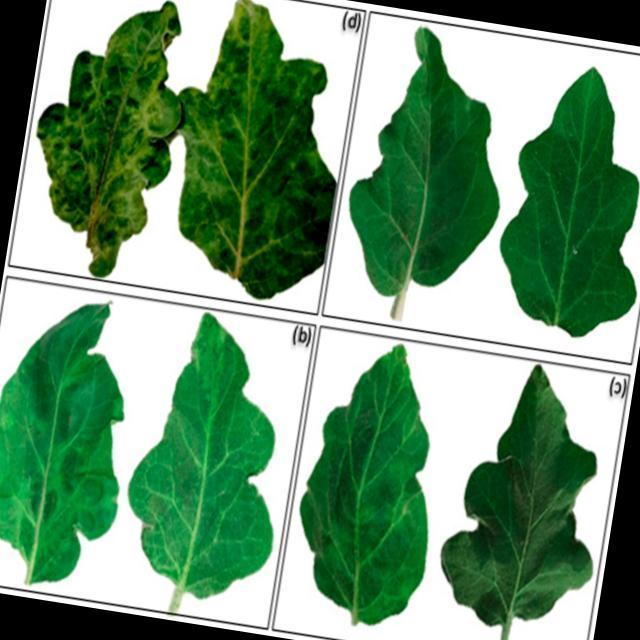Mosaic Virus: (281, 334, 458, 636), (165, 0, 348, 292), (438, 363, 619, 640), (0, 282, 150, 589), (31, 0, 193, 250)
